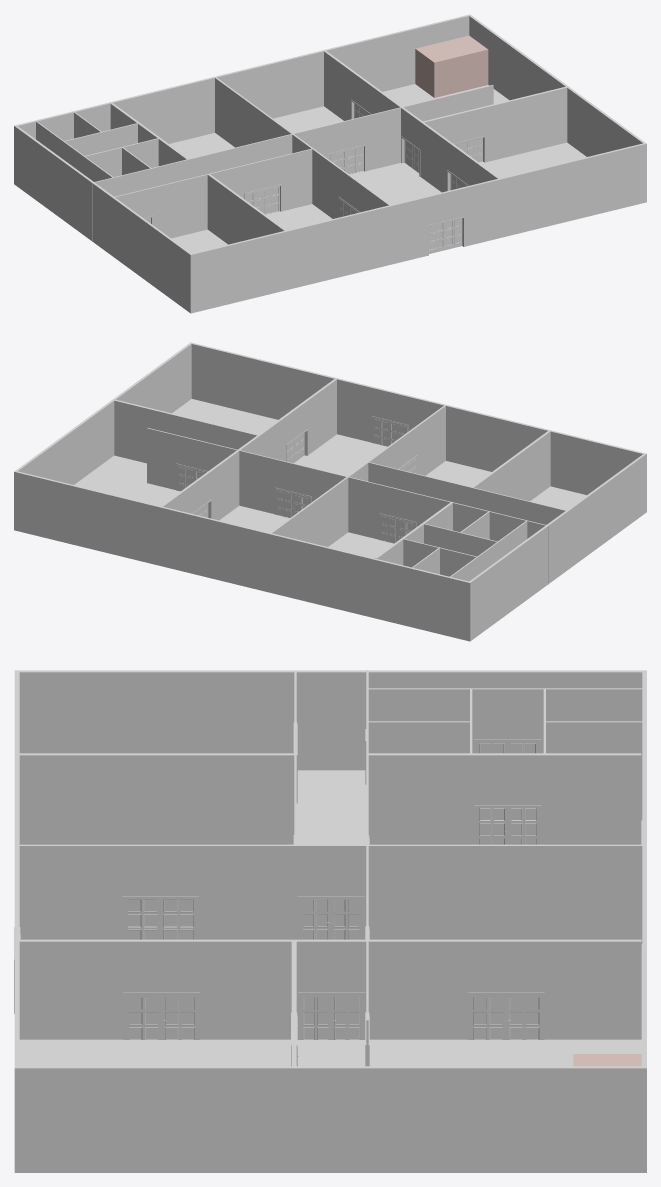
Rendered from Roomsave 3.fbx.
3 views of the same model, one above another, from view 1: azimuth 30°, elevation 25°; view 2: azimuth 150°, elevation 25°; view 3: azimuth 270°, elevation 25° (orthographic). The views are drawn at different scales.
Parts seen in each view (by area): view 1: Wall, Wall.003, Slab, Wall.002, Wall.007, Wall.006, Wall.004, starway, Wall.001, Wall.010, Wall.009, Wall.008 (+5 smaller); view 2: Wall, Wall.003, Slab, Wall.006, Wall.004, Wall.007, Wall.002, Wall.001, Wall.010, Wall.008, Wall.009, Wall.005 (+4 smaller); view 3: Wall, Wall.004, Wall.006, Wall.001, Wall.005, Slab, Wall.010, Wall.012, Wall.011, Panel.013, Panel.014, Panel.018 (+12 smaller).
Boxes of the visible parts, x1,y1,x2,y2 form: Wall: [14, 14, 646, 313]; Wall.003: [91, 85, 493, 241]; Slab: [169, 84, 586, 253]; Wall.002: [114, 148, 312, 238]; Wall.007: [422, 86, 567, 162]; Wall.006: [324, 51, 500, 192]; Wall.004: [215, 77, 390, 218]; starway: [415, 35, 488, 97]; Wall.001: [207, 174, 288, 290]; Wall.010: [36, 121, 113, 181]; Wall.009: [64, 123, 138, 155]; Wall.008: [84, 138, 159, 177]; Wall: [14, 342, 646, 641]; Wall.003: [147, 428, 548, 584]; Slab: [74, 399, 586, 558]; Wall.006: [161, 378, 336, 520]; Wall.004: [270, 405, 445, 546]; Wall.007: [113, 399, 258, 463]; Wall.002: [368, 462, 566, 524]; Wall.001: [472, 430, 551, 501]; Wall.010: [450, 520, 527, 581]; Wall.008: [423, 523, 497, 556]; Wall.009: [402, 538, 476, 576]; Wall.005: [374, 502, 452, 565]; Wall: [14, 670, 646, 1172]; Wall.004: [18, 844, 642, 943]; Wall.006: [18, 939, 641, 1039]; Wall.001: [14, 753, 294, 844]; Wall.005: [367, 753, 641, 844]; Slab: [19, 770, 642, 1066]; Wall.010: [366, 688, 642, 753]; Wall.012: [368, 721, 469, 753]; Wall.011: [544, 721, 642, 820]; Panel.013: [506, 994, 542, 1039]; Panel.014: [470, 994, 506, 1039]; Panel.018: [125, 994, 161, 1039].
Bounding box in the file's own units: 39.17 × 4.81 × 26.31.
